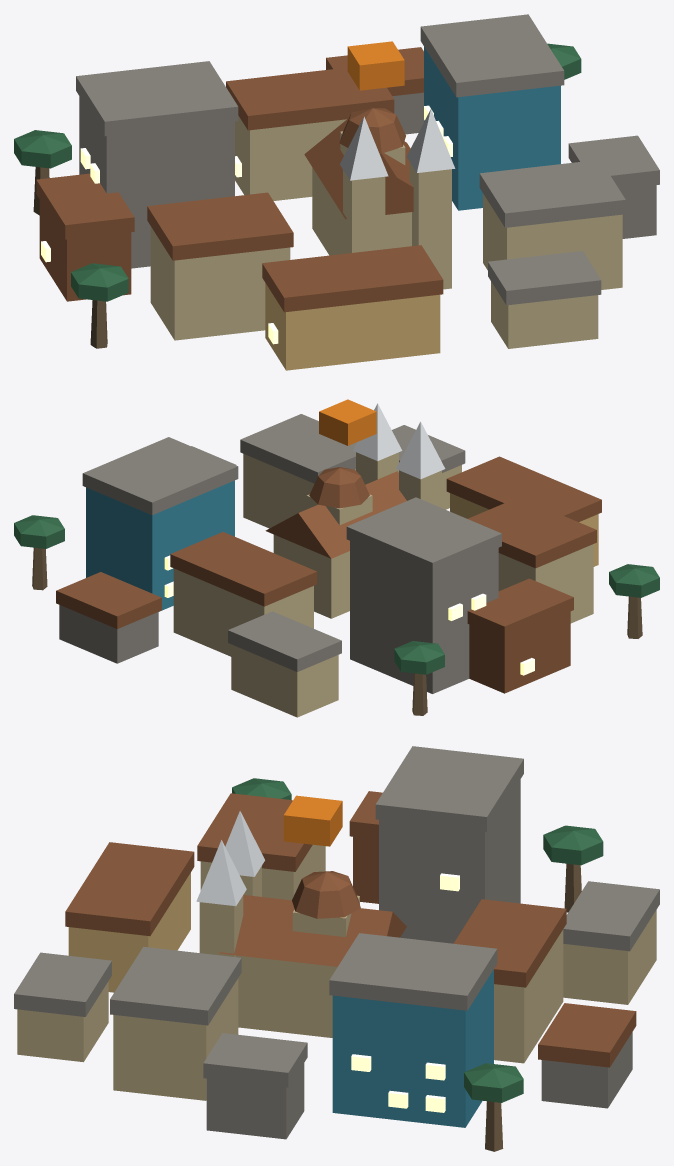
The model's file is overworld-settlement-latin-american-town.glb.
3 views of the same model, one above another, from view 1: azimuth 30°, elevation 25°; view 2: azimuth 150°, elevation 25°; view 3: azimuth 270°, elevation 25° (orthographic). The views are drawn at different scales.
Visible parts, largest first — view 1: settlement; view 2: settlement; view 3: settlement.
Boxes of the visible parts, x1,y1,x2,y2 form: settlement: [14, 14, 659, 370]; settlement: [14, 399, 659, 717]; settlement: [14, 746, 659, 1151].
Bounding box in the file's own units: 0.5339 × 0.166 × 0.4699.
